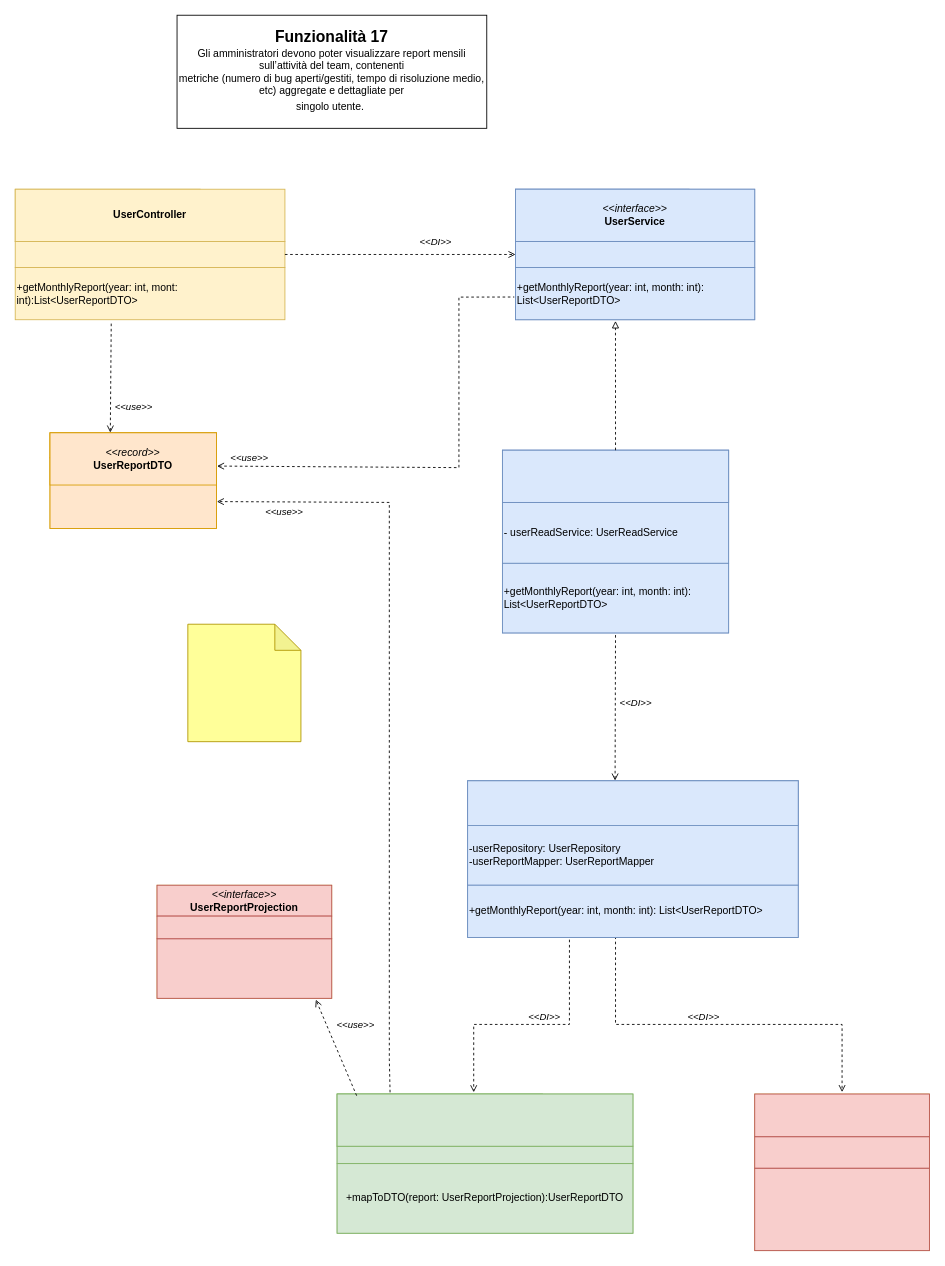
Image size: 945x1266. Some labels were removed from this diagram. The box of each missing label's shape, as (x1, y1, x2, y2) in pixels:
-userService:UserService: (14, 241, 285, 268)
<<interface>> UserRepository: (754, 1093, 929, 1137)
La notazione <<DI>> indica una Dependency Injection: (187, 623, 301, 742)
UserReadService: (467, 780, 798, 826)
UserReportMapper: (336, 1093, 633, 1146)
UserServiceImpl: (502, 449, 729, 502)
